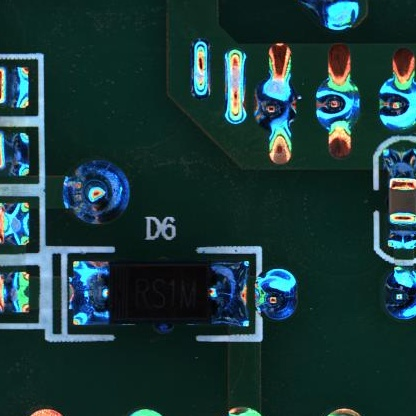spot: (63, 158, 134, 223), (315, 76, 362, 130), (260, 269, 301, 327), (256, 76, 299, 131), (375, 77, 416, 133), (381, 264, 416, 317)
